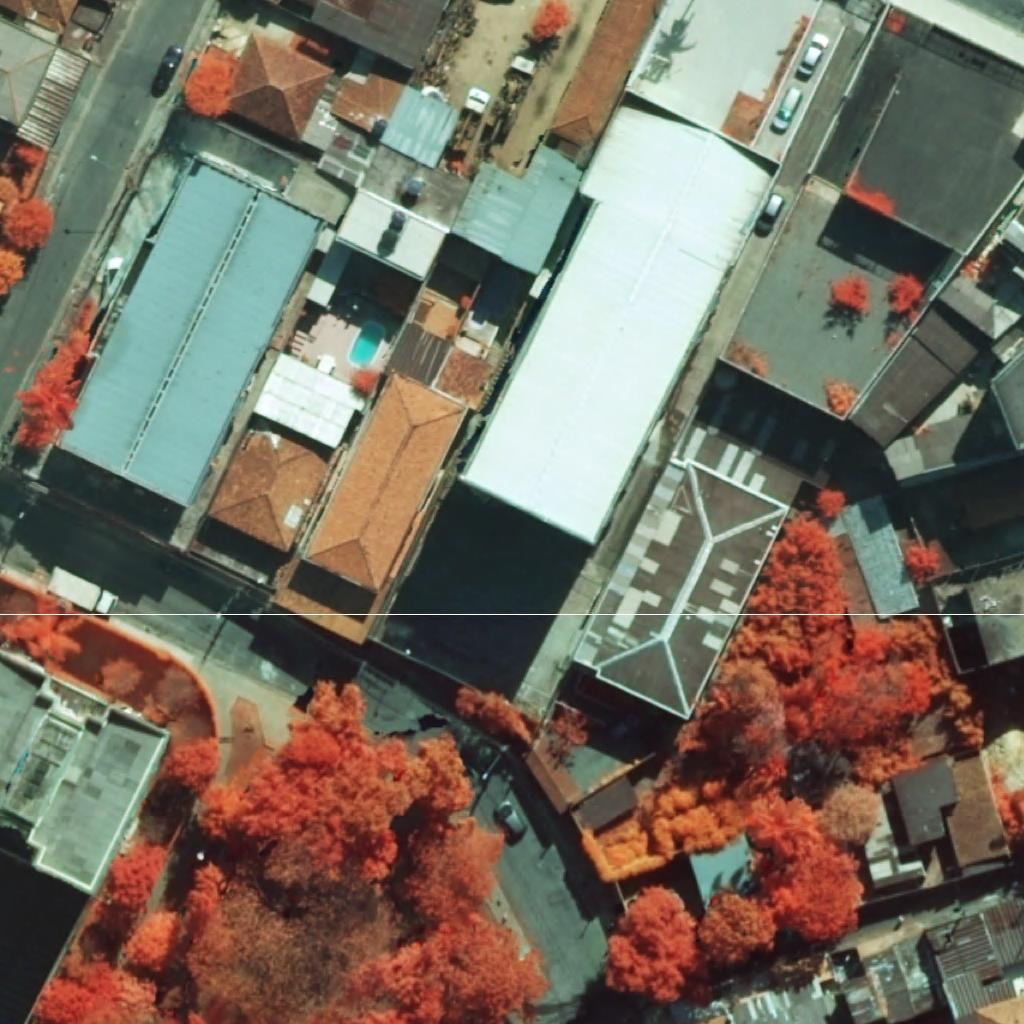pool: (349, 323, 384, 368)
